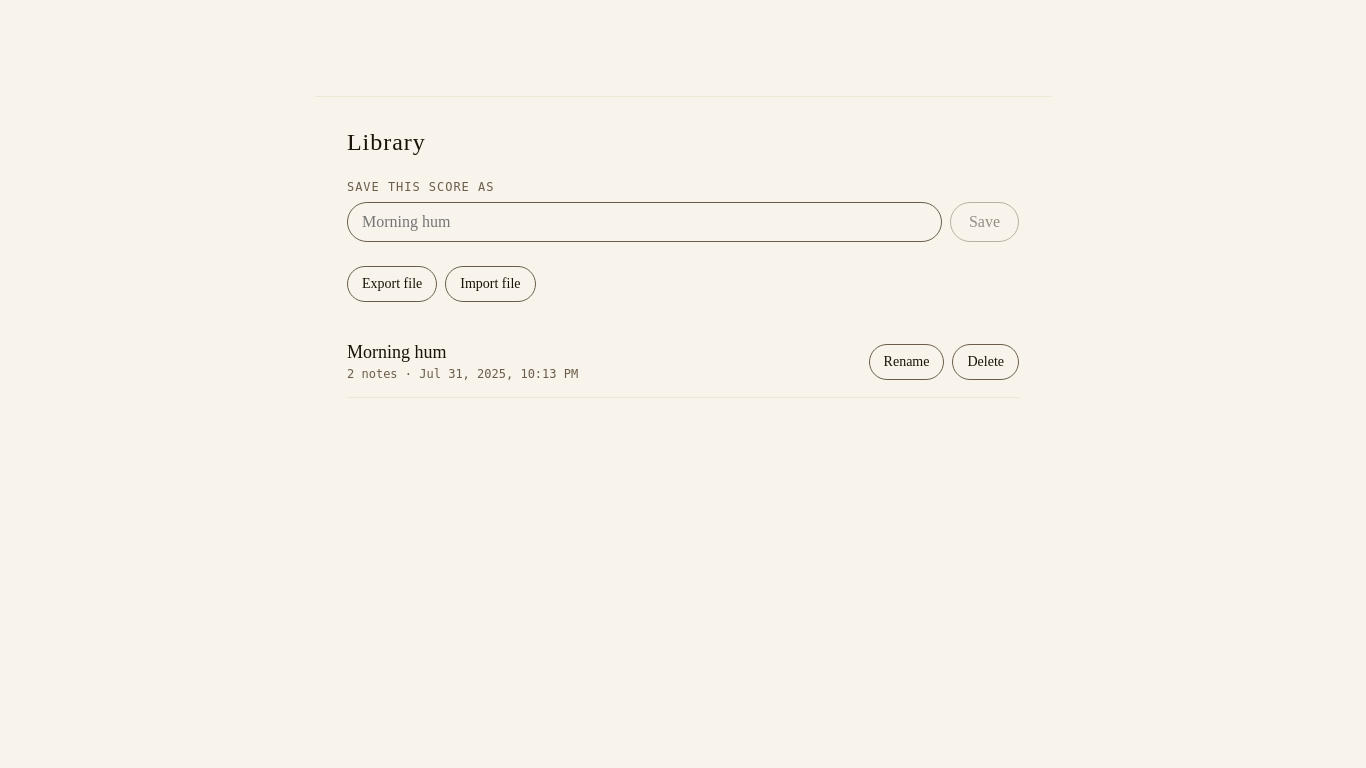
LibraryPanel: deleting › keeps the composition when the confirmation is dismissed
Click the button "Delete" at (986, 362), box [952,344,1019,380]
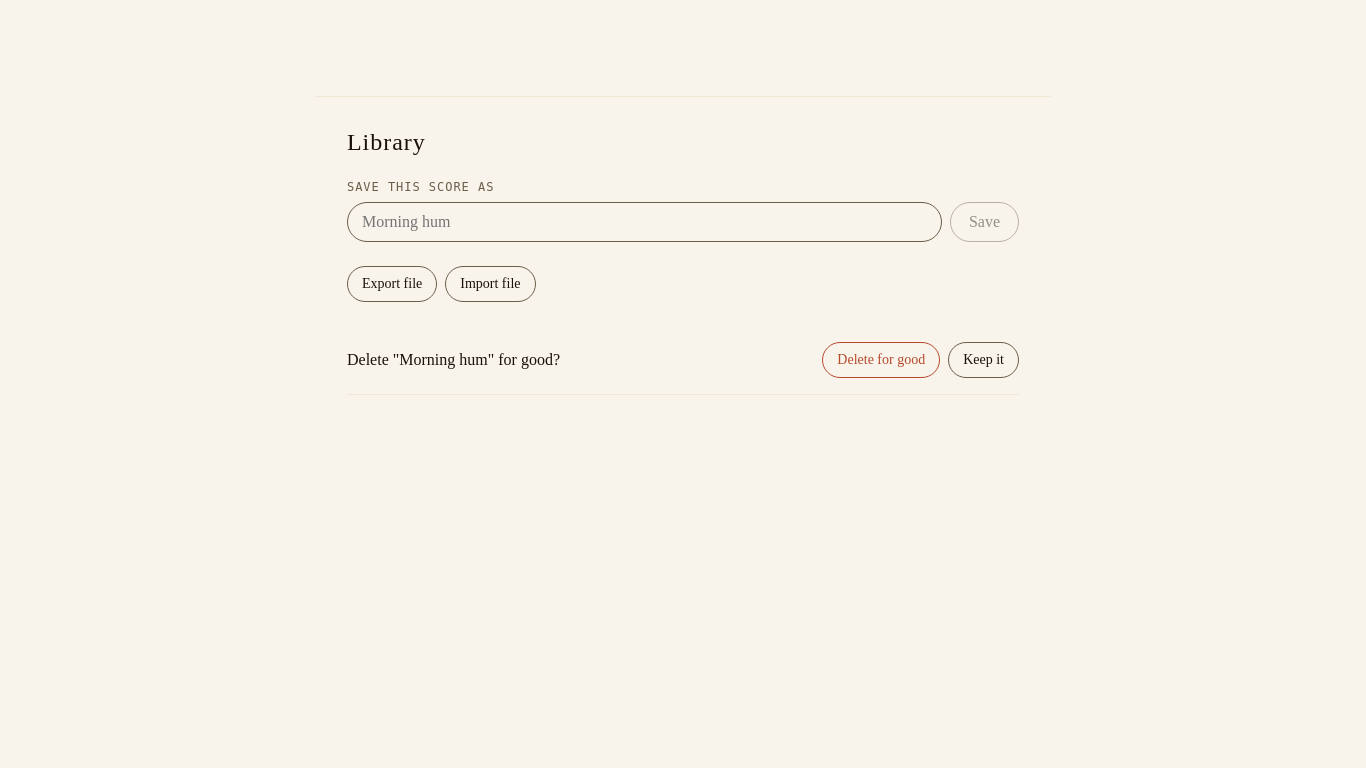
Click the button "Keep it" at (984, 360), box [948,342,1019,378]
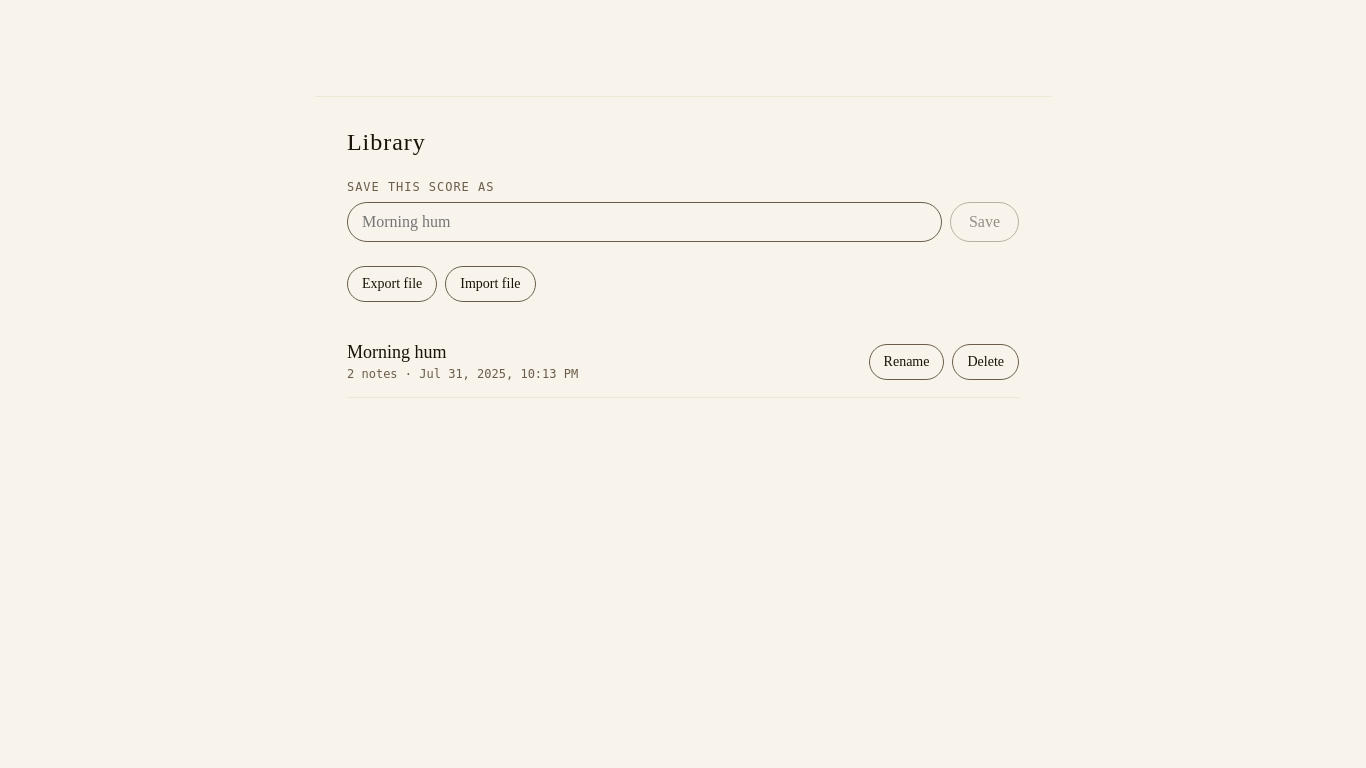
Check: the button "Morning hum 2 notes · Jul 31, 2025, 10:13 PM" is shown, box [343,338,861,385]
